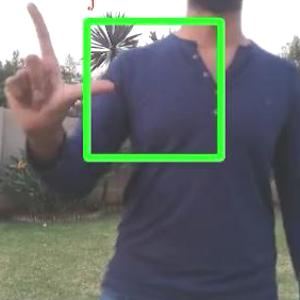land_hand: (0, 0, 114, 132)
